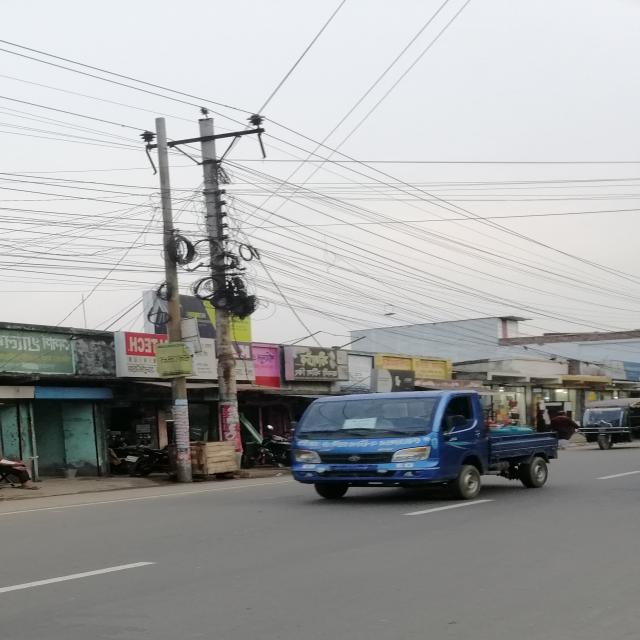Easybike: (549, 386, 640, 458)
Pick-Up Truck: (260, 378, 630, 515)
